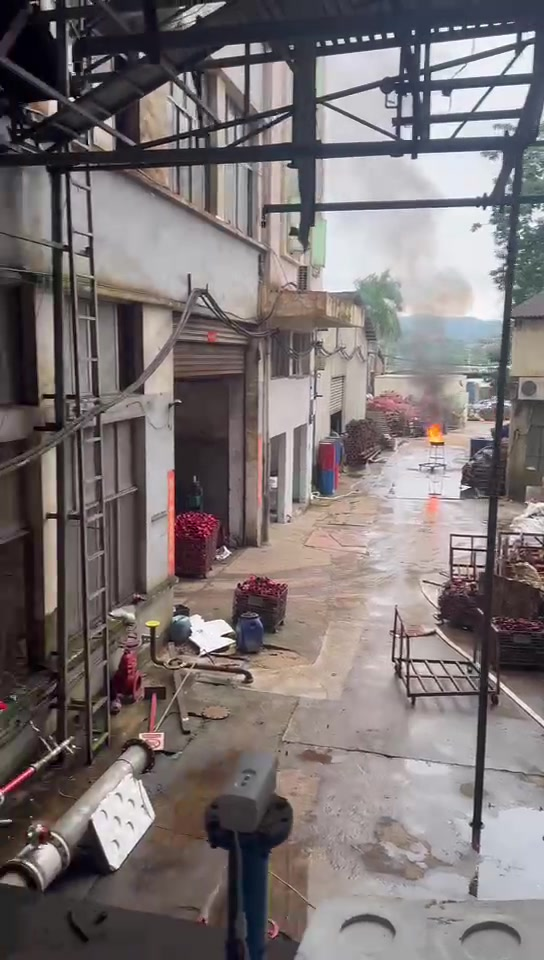fire: (426, 423, 442, 441)
